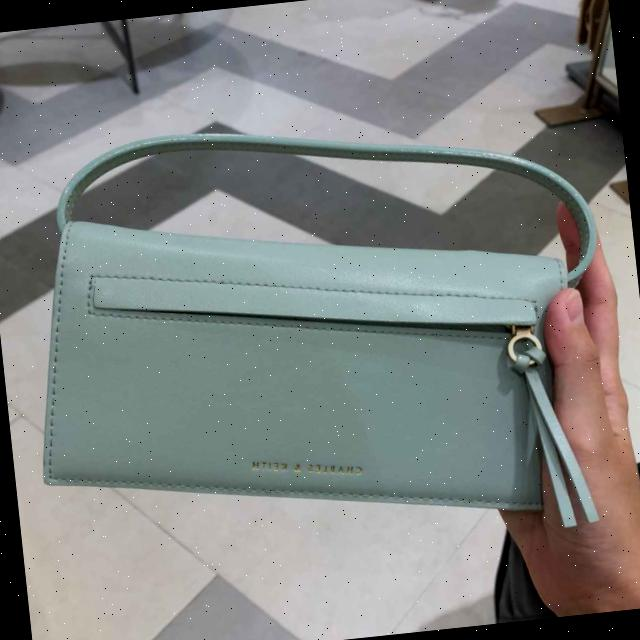Handbag: (14, 165, 588, 566)
